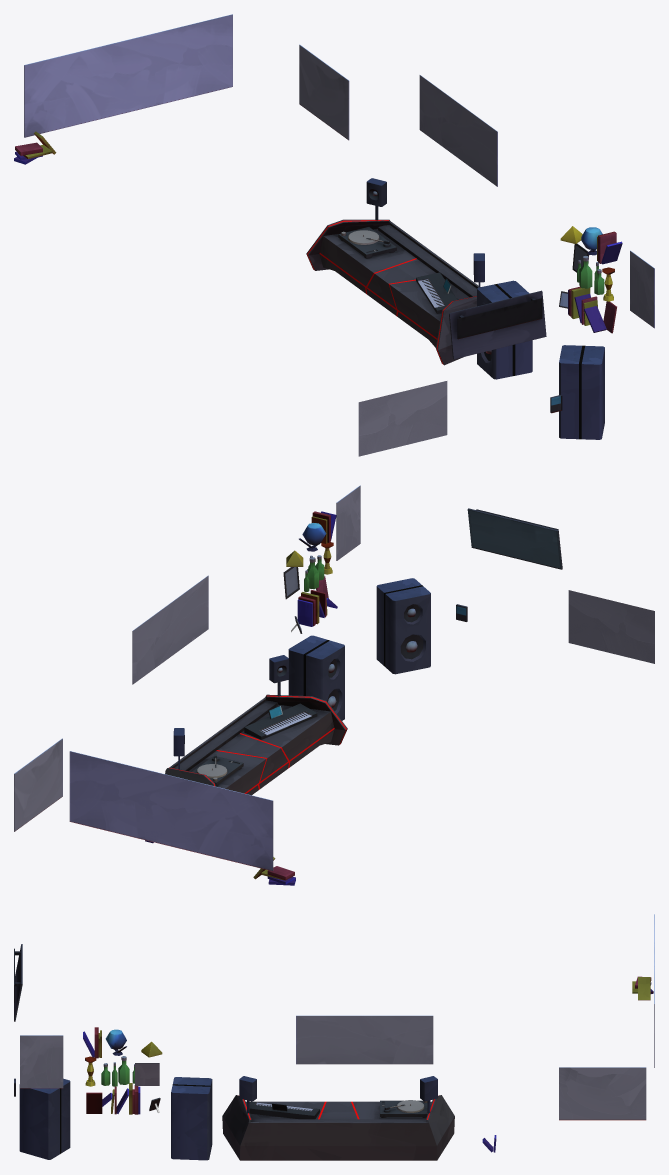
File: deco1_3ds.fbx
3 renders of one model, top to bottom at view 1: azimuth 30°, elevation 25°; view 2: azimuth 150°, elevation 25°; view 3: azimuth 270°, elevation 25°, orthographic. The views are drawn at different scales.
Parts seen in each view (by area): view 1: deco1; view 2: deco1; view 3: deco1.
Part boxes in pixels (<box>): deco1: <box>14,14,654,456</box>; deco1: <box>14,485,654,885</box>; deco1: <box>14,914,654,1160</box>.
Size of the model in its own units: 7.05 by 3.99 by 14.61.
2 materials, 1 textured.
